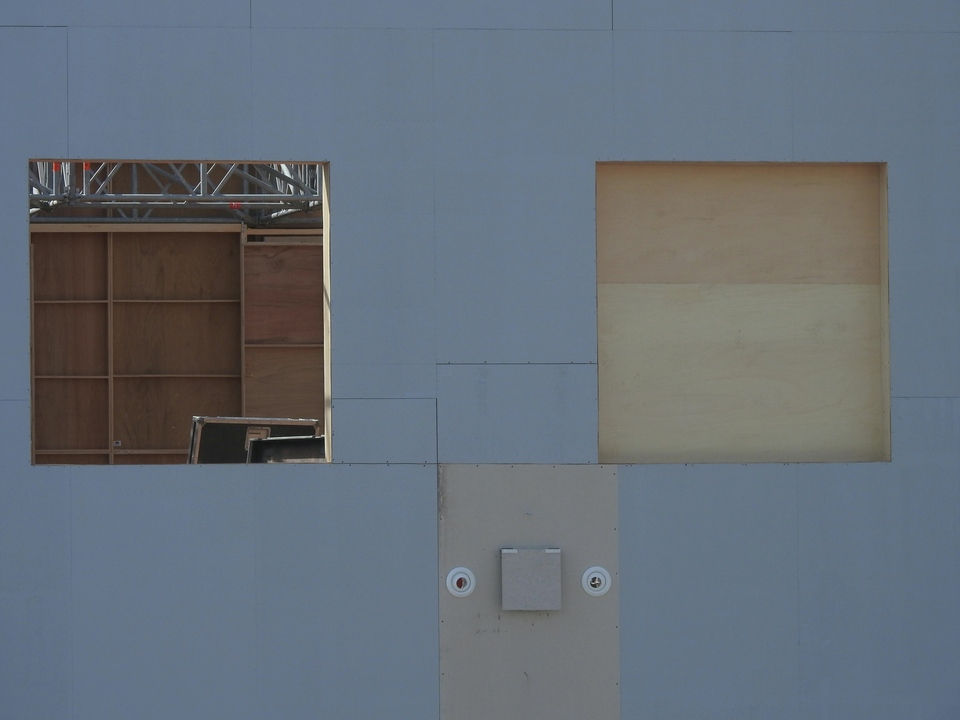facade: (446, 546, 612, 613)
